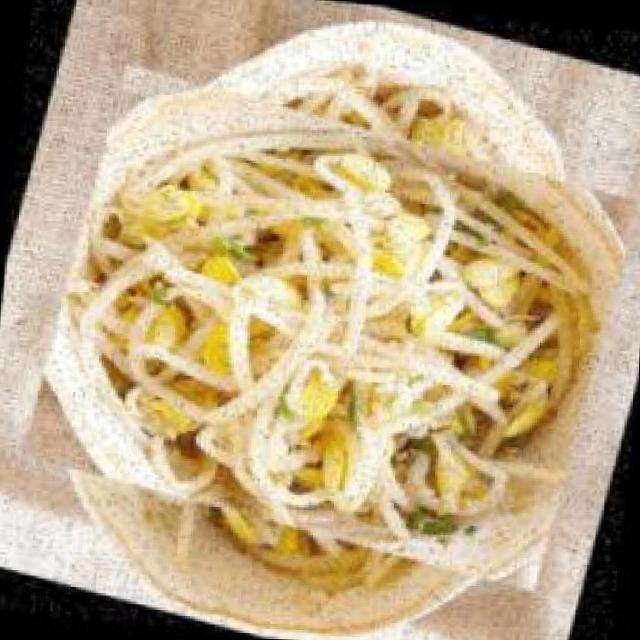mung_bean_sprouts: (35, 30, 625, 620)
